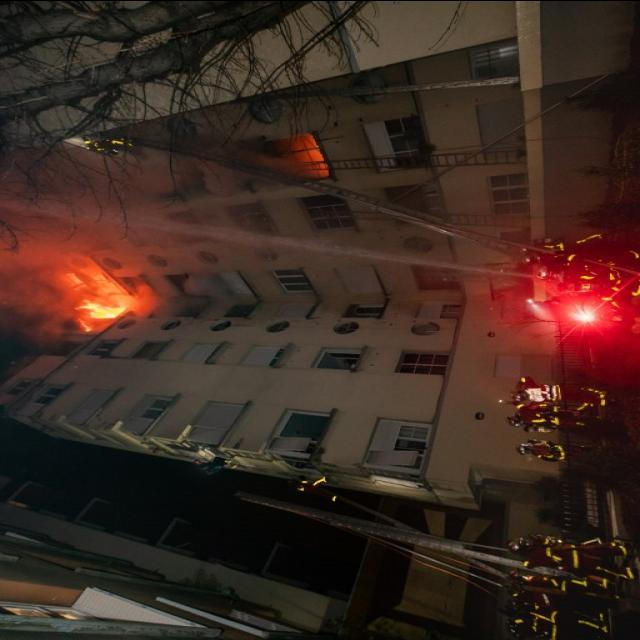Fire: (45, 244, 155, 329)
